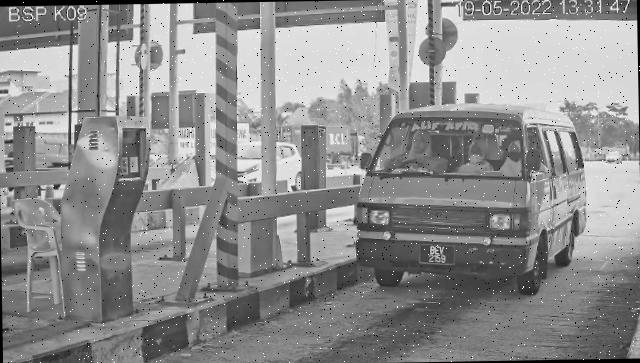License_Plate: (420, 243, 457, 268)
van: (355, 103, 590, 299)
